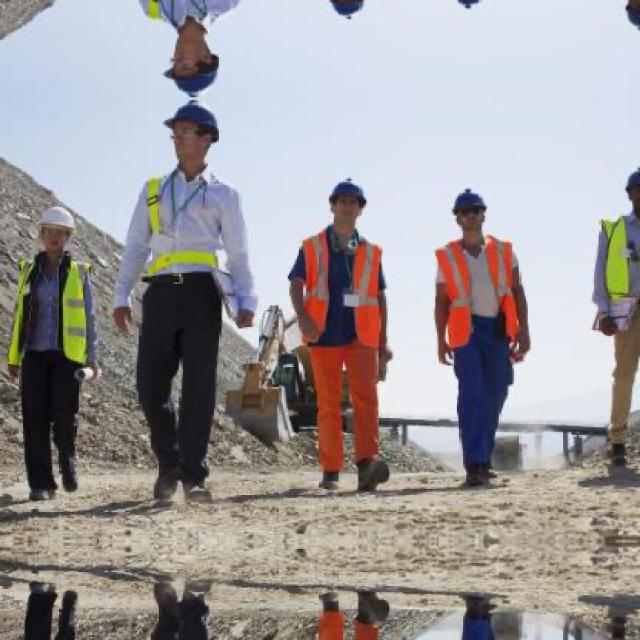con casco: (154, 110, 247, 170), (57, 186, 132, 260), (437, 189, 526, 251), (315, 164, 359, 251)
